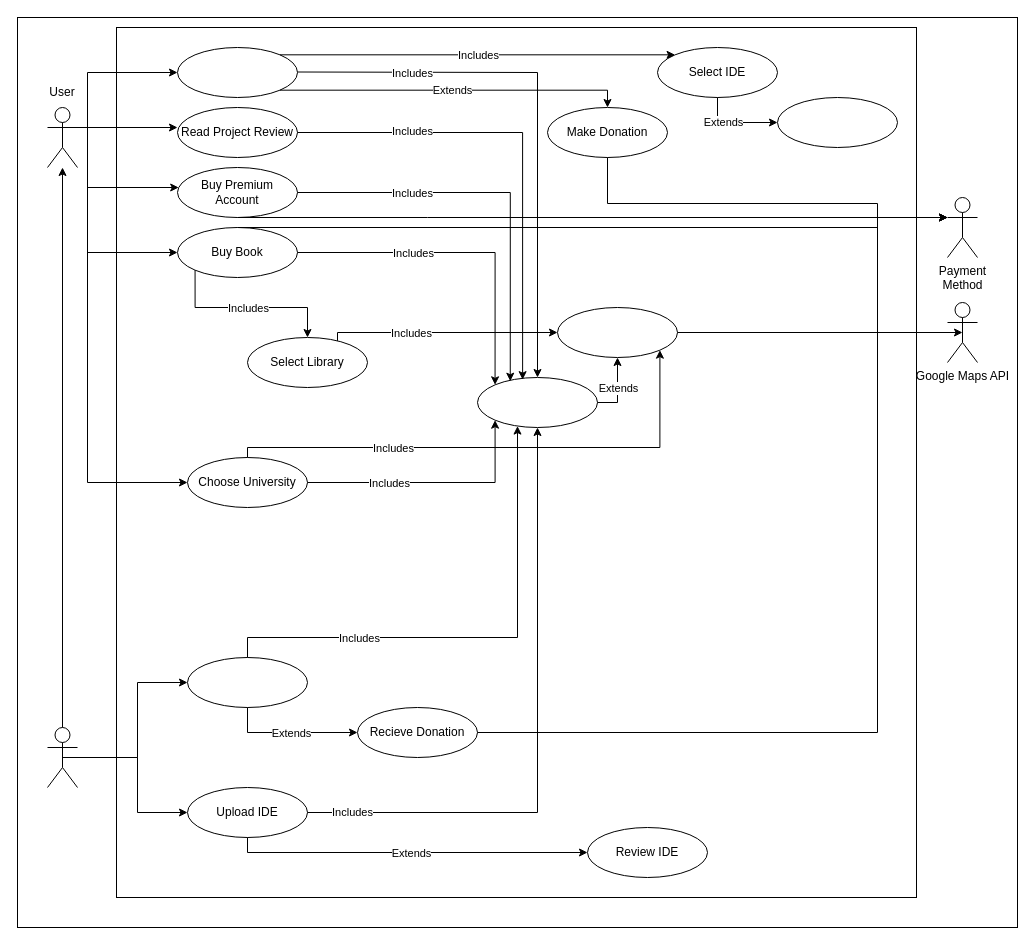
Image size: 1035x945. Some labels were removed from this diagram. Each missing label, with the centre of its shape:
Log In: pixel 537 402
Premium User: pixel 62 757
Select City: pixel 617 332
Start Project: pixel 237 72
Upload Project: pixel 247 682
View Review: pixel 837 122
